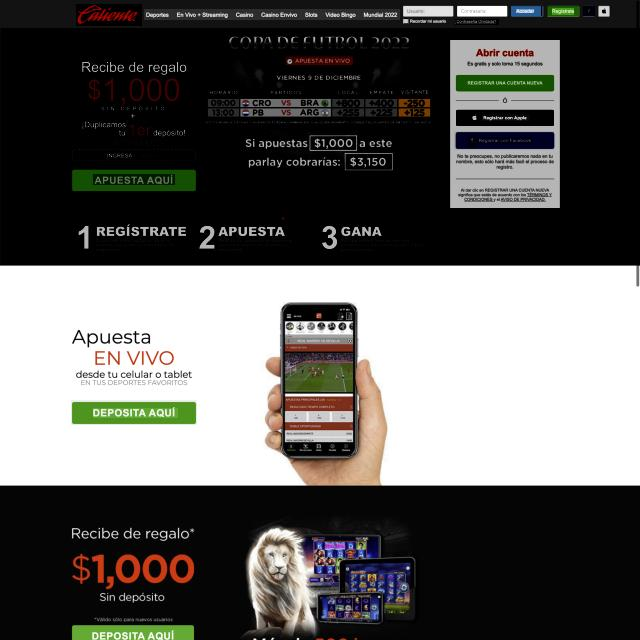CheckBox: (71, 400, 197, 425), (71, 168, 197, 192), (455, 108, 556, 127), (454, 131, 554, 150), (455, 74, 555, 92), (512, 6, 544, 16), (547, 6, 579, 16), (456, 19, 500, 25), (583, 6, 595, 16), (598, 6, 610, 16), (404, 18, 408, 24)
CheckedTextView: (457, 6, 507, 17), (403, 6, 453, 16)
bag: (0, 0, 640, 28)
card: (1, 28, 640, 265)
carousel: (468, 135, 475, 147), (469, 114, 479, 122), (586, 7, 592, 15), (601, 8, 607, 14)
data feed: (93, 174, 175, 185), (93, 408, 178, 418), (464, 80, 544, 88), (477, 137, 532, 144), (482, 114, 530, 121), (552, 8, 574, 15), (518, 9, 536, 13)
date picker: (76, 4, 142, 26)
decoration: (144, 9, 400, 20)
footer: (460, 8, 488, 14), (406, 8, 425, 14)
